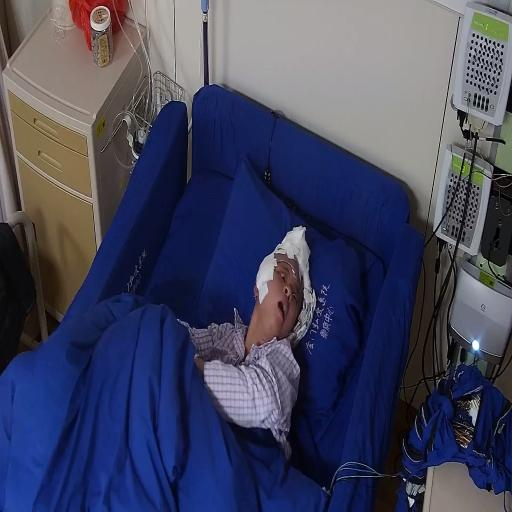Seizure: (252, 231, 312, 339)
